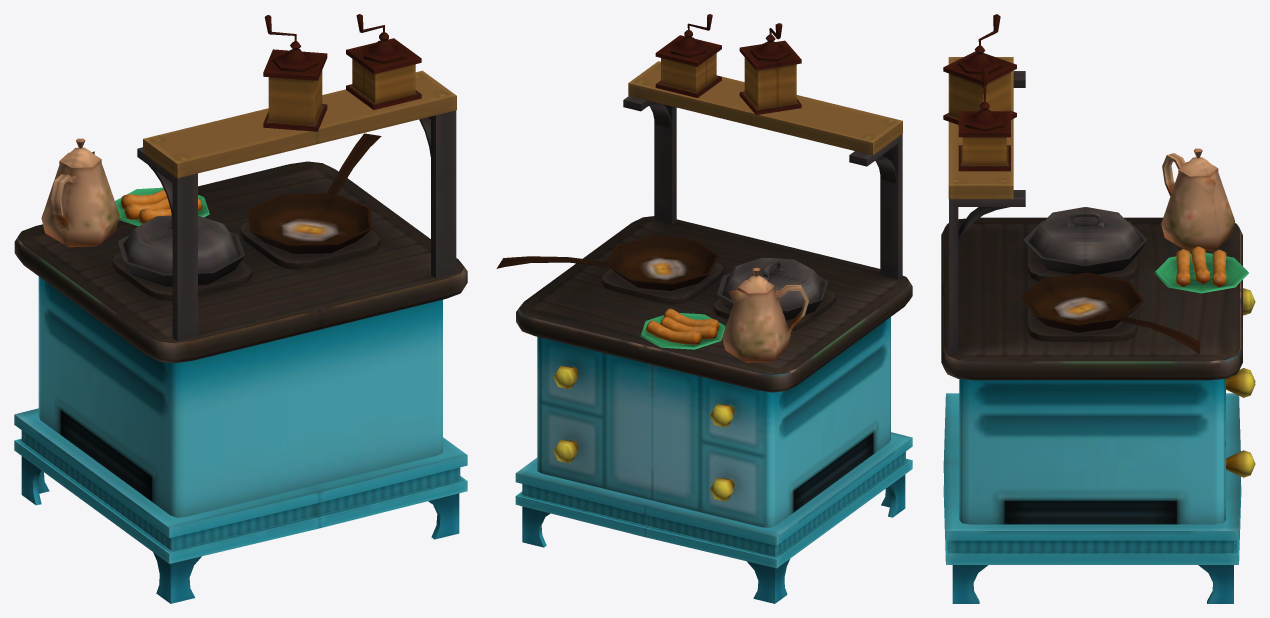
The model's file is Stove_01.gltf.
The picture shows the model from 3 angles, left to right: view 1: azimuth 30°, elevation 25°; view 2: azimuth 150°, elevation 25°; view 3: azimuth 270°, elevation 25°; orthographic projection. The views are drawn at different scales.
Parts seen in each view (by area): view 1: Stove_01; view 2: Stove_01; view 3: Stove_01.
Boxes of the visible parts, x1,y1,x2,y2 form: Stove_01: [14, 14, 467, 603]; Stove_01: [496, 14, 912, 603]; Stove_01: [941, 14, 1255, 603].
Size of the model in its own units: 44.43 by 65.74 by 36.52.
1 material, 1 textured.
